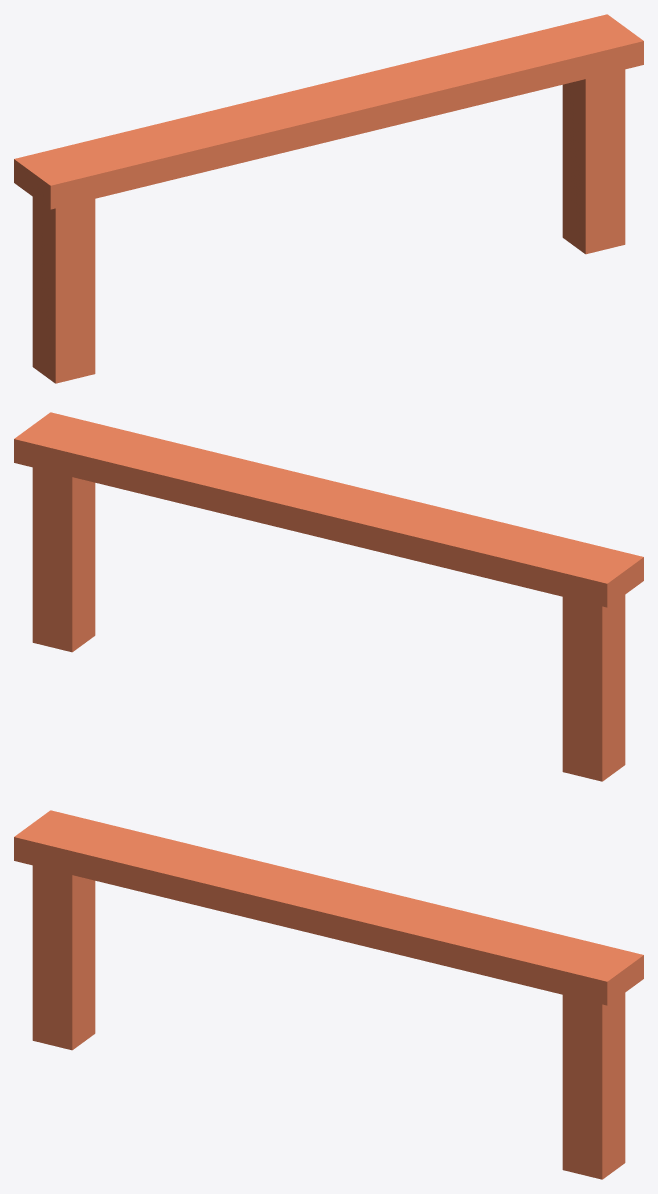
File: fence-simple-high.glb
3 views of the same model, one above another, from view 1: azimuth 30°, elevation 25°; view 2: azimuth 150°, elevation 25°; view 3: azimuth 330°, elevation 25° (orthographic).
Visible parts, largest first — view 1: fence_simpleHigh; view 2: fence_simpleHigh; view 3: fence_simpleHigh.
Boxes of the visible parts, bbox=[...] form: fence_simpleHigh: bbox=[14, 14, 643, 383]; fence_simpleHigh: bbox=[14, 412, 643, 781]; fence_simpleHigh: bbox=[14, 810, 643, 1179].
Bounding box in the file's own units: 1.04 × 0.345 × 0.1112.
